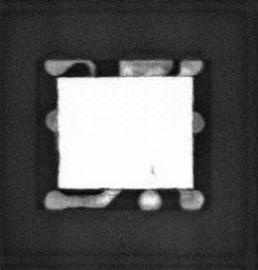DIE_INK: (148, 163, 156, 174)
